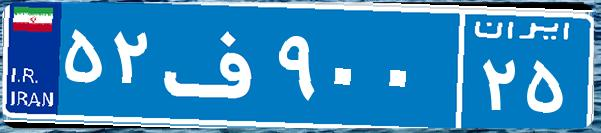0: (385, 28, 445, 110), (330, 28, 385, 110)
2: (475, 38, 525, 113), (110, 28, 158, 105)
5: (57, 26, 110, 107), (525, 38, 570, 115)
9: (273, 28, 330, 110)
ف: (158, 15, 273, 115)
